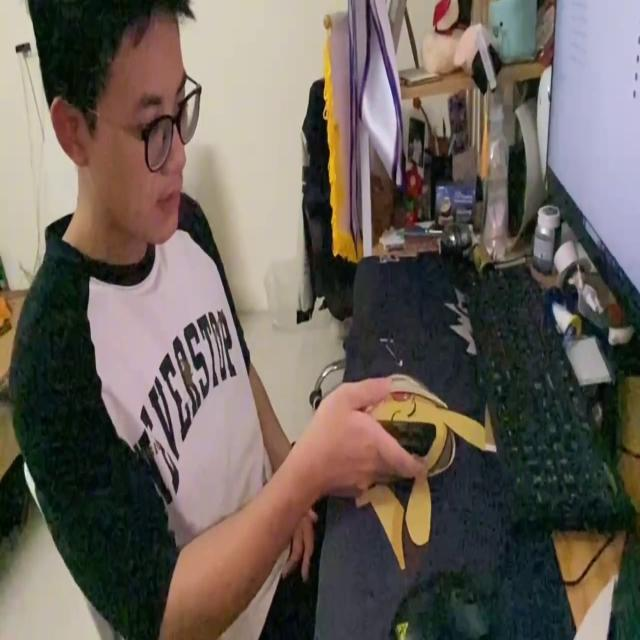laptop: (542, 0, 640, 334)
phone: (369, 407, 436, 458)
student: (6, 0, 430, 640)
